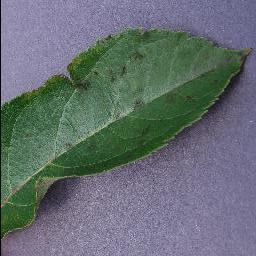apple healthy: (0, 24, 253, 242)
